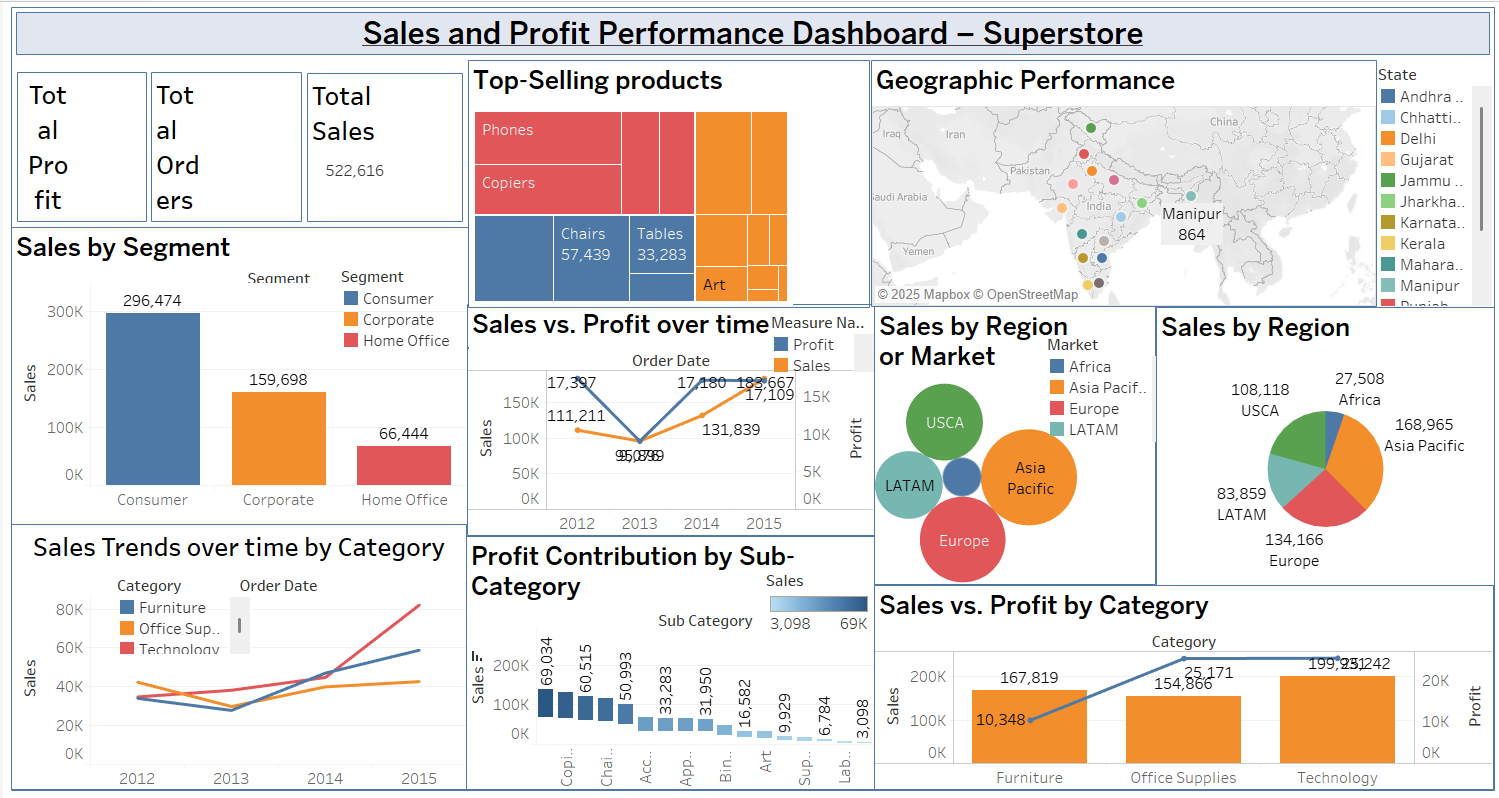

The page's visual inventory and layout, read from the dashboard file:
{"tool":"tableau","page":{"name":"Dashboard 1","canvas":[1500,800],"ordinal":0},"visuals":[{"type":"title","box":[9,9,1482,51]},{"type":"worksheet","title":"Tree maps","mark":"Automatic","box":[465,61,402,248]},{"type":"worksheet","title":"maps","mark":"Automatic","box":[868,61,506,247]},{"type":"legend","title":"maps","param":"[federated.0gsshg30roqi5i0znkoos1rmf23u].[none:State:nk]","box":[1375,65,116,242]},{"type":"worksheet","title":"Total Profit","mark":"Automatic","box":[14,73,130,150]},{"type":"worksheet","title":"Total Order","mark":"Text","box":[148,73,151,150]},{"type":"worksheet","title":"Total Sales","mark":"Automatic","box":[304,74,156,149]},{"type":"worksheet","title":"simple bar chart","mark":"Automatic","rows":["Sales"],"cols":["Segment"],"box":[8,228,458,299]},{"type":"legend","title":"simple bar chart","param":"[federated.0gsshg30roqi5i0znkoos1rmf23u].[none:Segment:nk]","box":[338,267,140,85]},{"type":"worksheet","title":"3 dim line chart","mark":"Automatic","rows":["Sales","Profit"],"cols":["Order Date"],"box":[464,305,408,232]},{"type":"worksheet","title":"Bubble chart","mark":"Circle","box":[871,307,282,279]},{"type":"worksheet","title":"Pie chart","mark":"Pie","box":[1153,308,339,279]},{"type":"legend","title":"3 dim line chart","param":"[federated.0gsshg30roqi5i0znkoos1rmf23u].[:Measure Names]","box":[768,313,105,60]},{"type":"legend","title":"Bubble chart","param":"[federated.0gsshg30roqi5i0znkoos1rmf23u].[none:Market:nk]","box":[1044,335,127,108]},{"type":"worksheet","title":"multiple line chart","mark":"Automatic","rows":["Sales"],"cols":["Order Date"],"box":[8,525,456,266]},{"type":"worksheet","title":"Waterfall","mark":"GanttBar","rows":["Sales"],"cols":["SubCategory"],"box":[463,537,409,254]},{"type":"legend","title":"Waterfall","param":"[federated.0gsshg30roqi5i0znkoos1rmf23u].[sum:Sales:qk]","box":[763,571,106,76]},{"type":"legend","title":"multiple line chart","param":"[federated.0gsshg30roqi5i0znkoos1rmf23u].[none:Category:nk]","box":[114,576,135,79]},{"type":"worksheet","title":"combined bar and line","mark":"Automatic","rows":["Sales","Profit"],"cols":["Category"],"box":[871,586,620,205]}]}

Visuals, with their boxes in screenshot pixels (x1, y1, x2, y2), scaled from the page's 1500x800 canvas onto the 1499x798 screenshot:
title: [9,9,1490,60]
"Tree maps" worksheet: [465,61,866,308]
"maps" worksheet: [867,61,1373,307]
"maps" legend: [1374,65,1490,306]
"Total Profit" worksheet: [14,73,144,222]
"Total Order" worksheet (Text marks): [148,73,299,222]
"Total Sales" worksheet: [304,74,460,222]
"simple bar chart" worksheet: [8,227,466,526]
"simple bar chart" legend: [338,266,478,351]
"3 dim line chart" worksheet: [464,304,871,536]
"Bubble chart" worksheet (Circle marks): [870,306,1152,585]
"Pie chart" worksheet (Pie marks): [1152,307,1491,586]
"3 dim line chart" legend: [767,312,872,372]
"Bubble chart" legend: [1043,334,1170,442]
"multiple line chart" worksheet: [8,524,464,789]
"Waterfall" worksheet (GanttBar marks): [463,536,871,789]
"Waterfall" legend: [762,570,868,645]
"multiple line chart" legend: [114,575,249,653]
"combined bar and line" worksheet: [870,585,1490,789]
